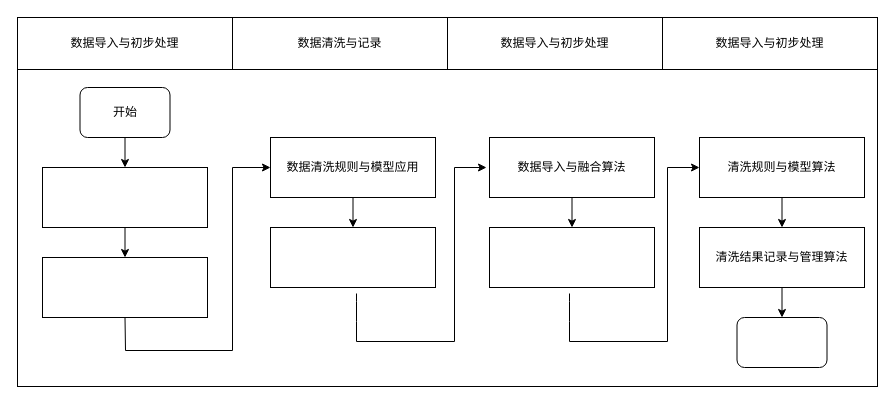
This 895x404 diagram has some shape labels left out. Each missing label, with the centre of its shape:
"大数据处理与流量控制算法" goes at point 571,257.
"大数据处理与流量评估" goes at point 125,287.
"数据导入与异构数据融合" goes at point 125,197.
"清洗结果记录与管理" goes at point 353,257.
"结束" goes at point 781,342.
